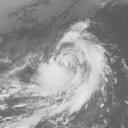cyclone: (16, 20, 111, 127)
